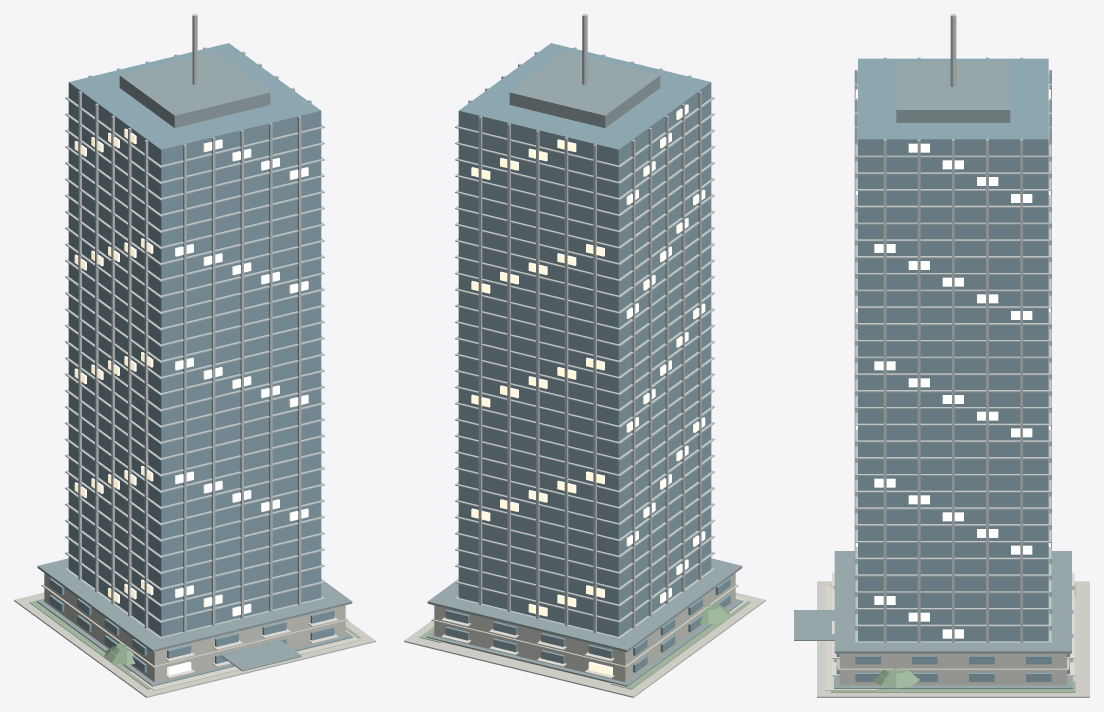
Rendered from remaster_skyscraper_0.glb.
The picture shows the model from 3 angles, left to right: view 1: azimuth 30°, elevation 25°; view 2: azimuth 150°, elevation 25°; view 3: azimuth 270°, elevation 25°; orthographic projection. The views are drawn at different scales.
Parts seen in each view (by area): view 1: remaster_skyscraper_0 glass, remaster_skyscraper_0 metal, remaster_skyscraper_0 roof, remaster_skyscraper_0 stone, remaster_skyscraper_0 warm, remaster_skyscraper_0 cream, remaster_skyscraper_0 green, remaster_skyscraper_0 white; view 2: remaster_skyscraper_0 glass, remaster_skyscraper_0 metal, remaster_skyscraper_0 roof, remaster_skyscraper_0 stone, remaster_skyscraper_0 warm, remaster_skyscraper_0 white, remaster_skyscraper_0 green; view 3: remaster_skyscraper_0 glass, remaster_skyscraper_0 metal, remaster_skyscraper_0 roof, remaster_skyscraper_0 stone, remaster_skyscraper_0 warm, remaster_skyscraper_0 green, remaster_skyscraper_0 leaf, remaster_skyscraper_0 cream, remaster_skyscraper_0 white.
Boxes of the visible parts, x1,y1,x2,y2 form: remaster_skyscraper_0 glass: [49, 43, 334, 672]; remaster_skyscraper_0 metal: [65, 14, 324, 638]; remaster_skyscraper_0 roof: [36, 52, 353, 686]; remaster_skyscraper_0 stone: [14, 573, 375, 697]; remaster_skyscraper_0 warm: [74, 128, 308, 675]; remaster_skyscraper_0 cream: [130, 630, 359, 690]; remaster_skyscraper_0 green: [29, 599, 360, 689]; remaster_skyscraper_0 white: [165, 617, 338, 678]; remaster_skyscraper_0 glass: [445, 43, 730, 672]; remaster_skyscraper_0 metal: [455, 14, 714, 638]; remaster_skyscraper_0 roof: [426, 52, 743, 686]; remaster_skyscraper_0 stone: [404, 573, 765, 697]; remaster_skyscraper_0 warm: [471, 104, 705, 675]; remaster_skyscraper_0 white: [441, 617, 614, 678]; remaster_skyscraper_0 green: [419, 601, 750, 689]; remaster_skyscraper_0 glass: [836, 58, 1069, 681]; remaster_skyscraper_0 metal: [854, 14, 1051, 642]; remaster_skyscraper_0 roof: [794, 62, 1072, 688]; remaster_skyscraper_0 stone: [817, 581, 1089, 697]; remaster_skyscraper_0 warm: [855, 84, 1050, 638]; remaster_skyscraper_0 green: [831, 585, 1075, 692]; remaster_skyscraper_0 leaf: [873, 668, 919, 688]; remaster_skyscraper_0 cream: [825, 586, 876, 690]; remaster_skyscraper_0 white: [832, 572, 1074, 676].
Size of the model in its own units: 38.58 by 97 by 41.6.
